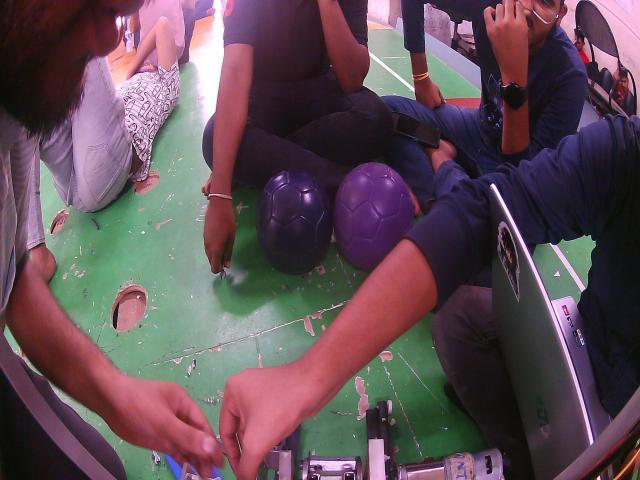jambhalya: (334, 162, 414, 271)
kaalyya: (256, 170, 332, 274)
